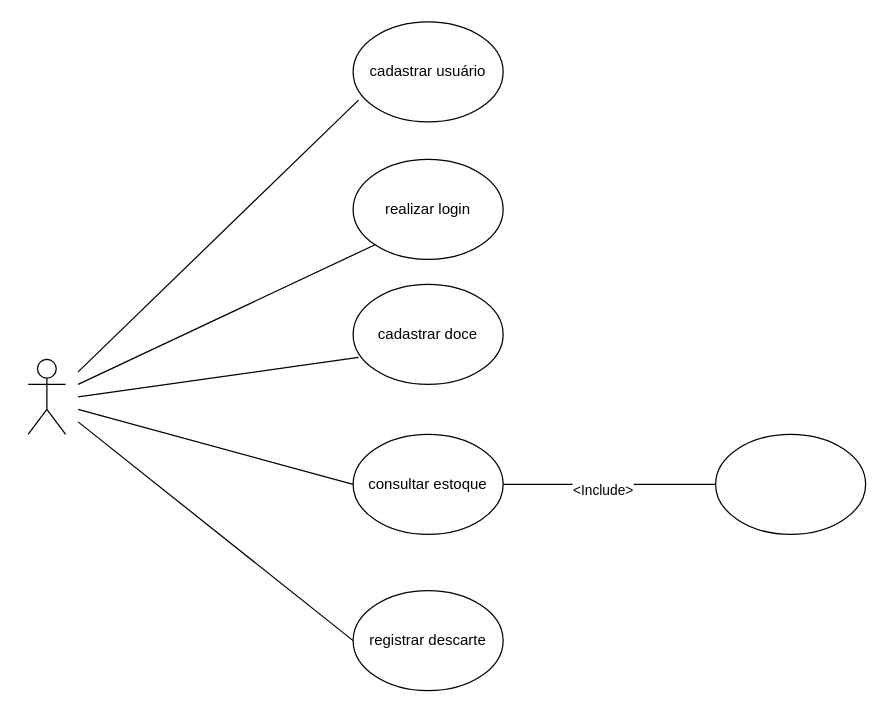
Image size: 888x713. Some labels were removed from this diagram. The box of each missing label's shape, as (x1, y1, x2, y2) in pixels:
Acessar Alertas: (714, 433, 866, 534)
Usuário: (27, 358, 66, 434)
